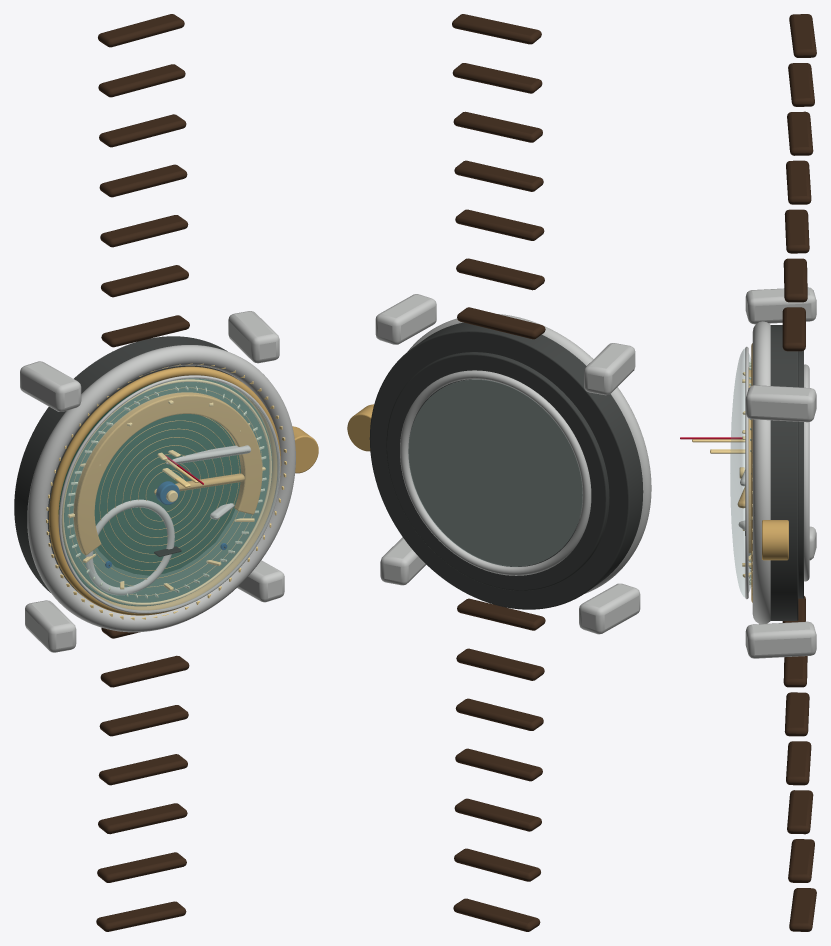
The model's file is canh-gio-105.glb.
The picture shows the model from 3 angles, left to right: view 1: azimuth 30°, elevation 25°; view 2: azimuth 150°, elevation 25°; view 3: azimuth 270°, elevation 25°; orthographic projection.
Visible parts, largest first — view 1: SapphireCrystal, Dial, CasePolishedRing, RotorMass, Bezel18K, CaseBody, CrystalEdge, Lug_-1_1, Lug_-1_-1, Lug_1_1, BarrelBridge, MinuteTrack (+16 smaller); view 2: CaseBack, CaseBackGlass, CaseBody, CaseBackRing, CasePolishedRing, Lug_-1_-1, Lug_1_1, Lug_-1_1, Strap_1_5, Strap_1_6, Strap_1_4, Strap_1_3 (+12 smaller); view 3: CaseBody, CasePolishedRing, SapphireCrystal, Lug_1_1, Lug_1_-1, Lug_-1_1, CaseBack, Crown, CaseBackRing, Strap_1_2, Strap_-1_2, Strap_1_0 (+13 smaller).
Boxes of the visible parts, x1=… form: SapphireCrystal: x1=61, y1=378, x2=279, y2=612; Dial: x1=58, y1=378, x2=272, y2=606; CasePolishedRing: x1=27, y1=345, x2=295, y2=632; RotorMass: x1=73, y1=392, x2=262, y2=555; Bezel18K: x1=49, y1=366, x2=281, y2=615; CaseBody: x1=14, y1=336, x2=239, y2=594; CrystalEdge: x1=58, y1=375, x2=280, y2=613; Lug_-1_1: x1=20, y1=361, x2=81, y2=411; Lug_-1_-1: x1=25, y1=600, x2=76, y2=652; Lug_1_1: x1=228, y1=311, x2=279, y2=363; BarrelBridge: x1=85, y1=499, x2=174, y2=595; MinuteTrack: x1=62, y1=379, x2=271, y2=605; CaseBack: x1=386, y1=352, x2=609, y2=590; CaseBackGlass: x1=408, y1=379, x2=582, y2=566; CaseBody: x1=369, y1=322, x2=643, y2=609; CaseBackRing: x1=400, y1=370, x2=591, y2=575; CasePolishedRing: x1=407, y1=314, x2=651, y2=593; Lug_-1_-1: x1=579, y1=583, x2=640, y2=634; Lug_1_1: x1=375, y1=294, x2=436, y2=344; Lug_-1_1: x1=584, y1=343, x2=635, y2=395; Strap_1_5: x1=452, y1=63, x2=542, y2=93; Strap_1_6: x1=452, y1=14, x2=541, y2=44; Strap_1_4: x1=453, y1=111, x2=542, y2=142; Strap_1_3: x1=454, y1=160, x2=543, y2=191; CaseBody: x1=770, y1=325, x2=798, y2=620; CasePolishedRing: x1=752, y1=321, x2=770, y2=623; SapphireCrystal: x1=730, y1=348, x2=751, y2=597; Lug_1_1: x1=745, y1=385, x2=816, y2=422; Lug_1_-1: x1=745, y1=621, x2=816, y2=658; Lug_-1_1: x1=745, y1=287, x2=816, y2=324; CaseBack: x1=798, y1=350, x2=803, y2=598; Crown: x1=762, y1=520, x2=788, y2=560; CaseBackRing: x1=804, y1=364, x2=809, y2=581; Strap_1_2: x1=784, y1=209, x2=809, y2=253; Strap_-1_2: x1=784, y1=692, x2=809, y2=736; Strap_1_0: x1=782, y1=307, x2=805, y2=351.
Size of the model in its own units: 9.07 by 26.71 by 3.76.
